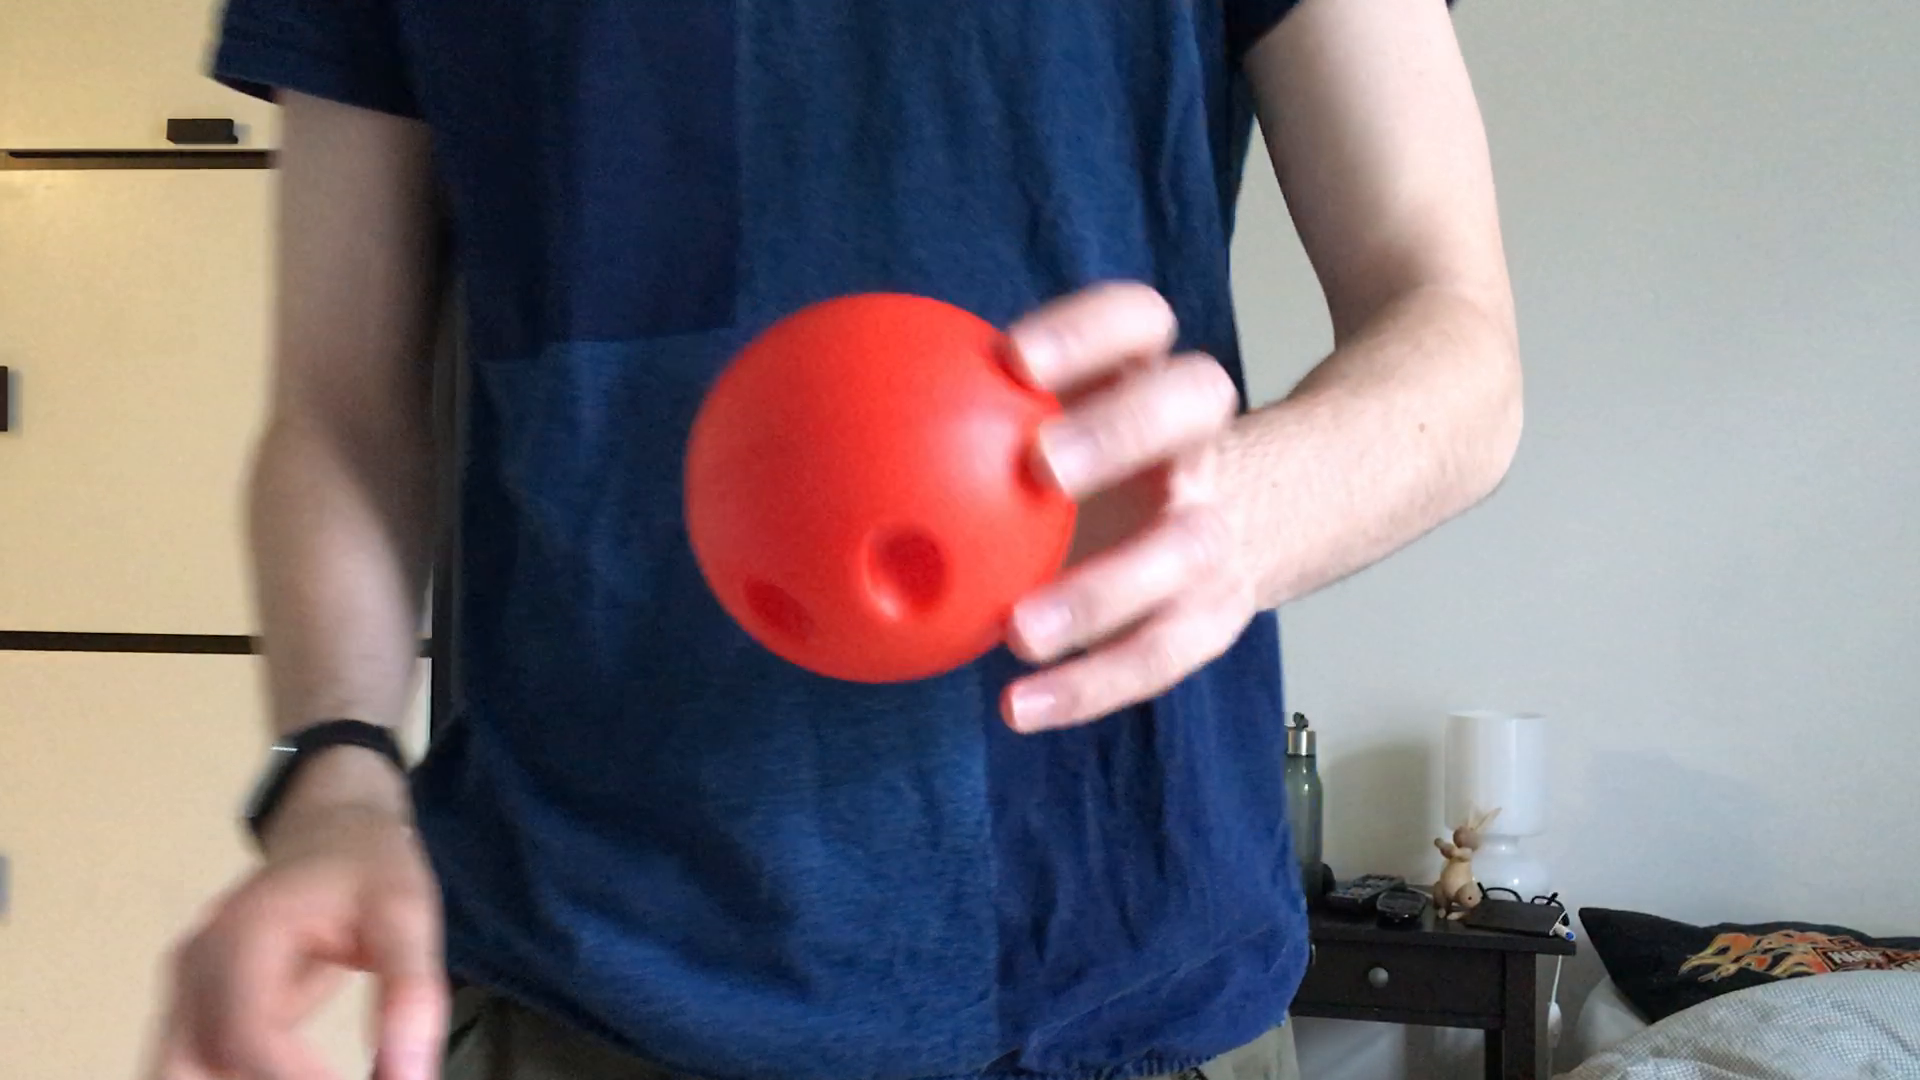Ball: (671, 280, 1106, 707)
